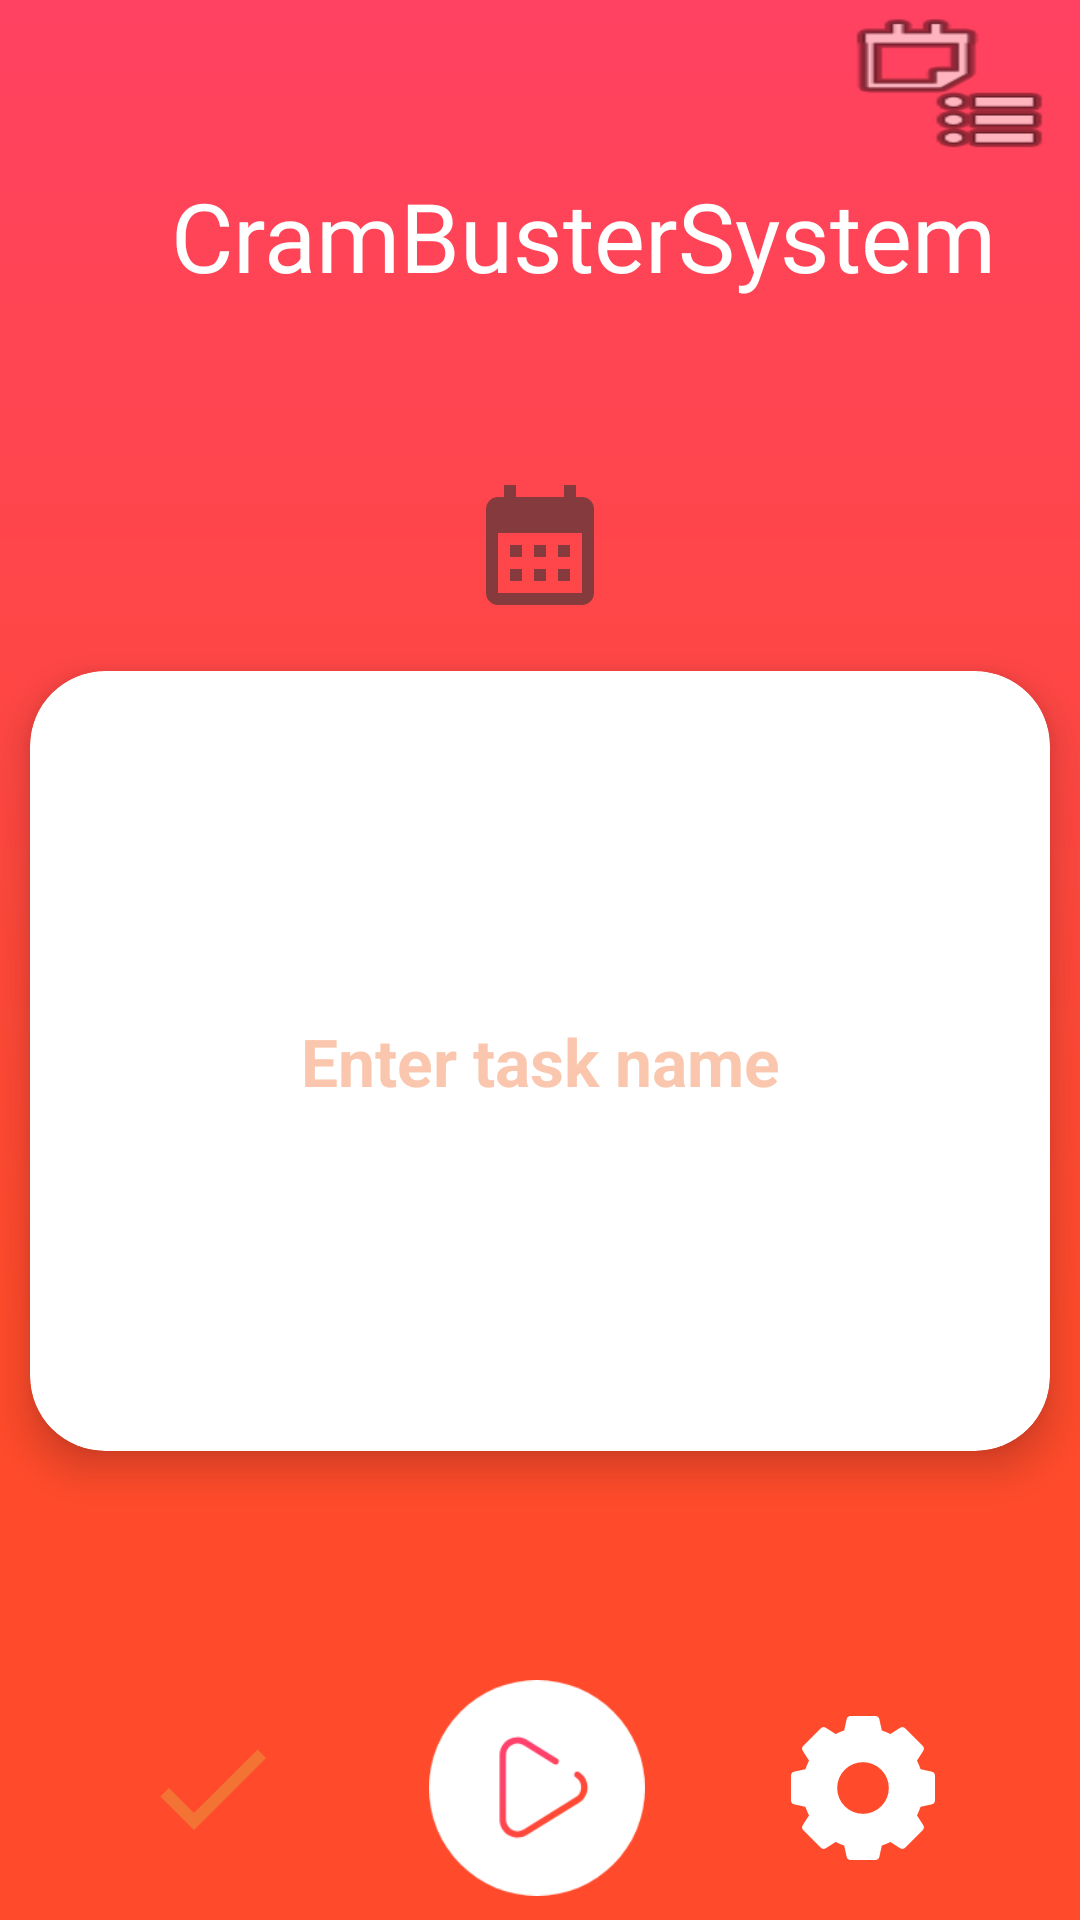

Screen size 1080px x 1920px. Icon name, then its center in pixels as point (x, y):
agenda: point (949, 83)
calendar: point (540, 545)
Complete Image: point (213, 1789)
Settings Image: point (863, 1788)
